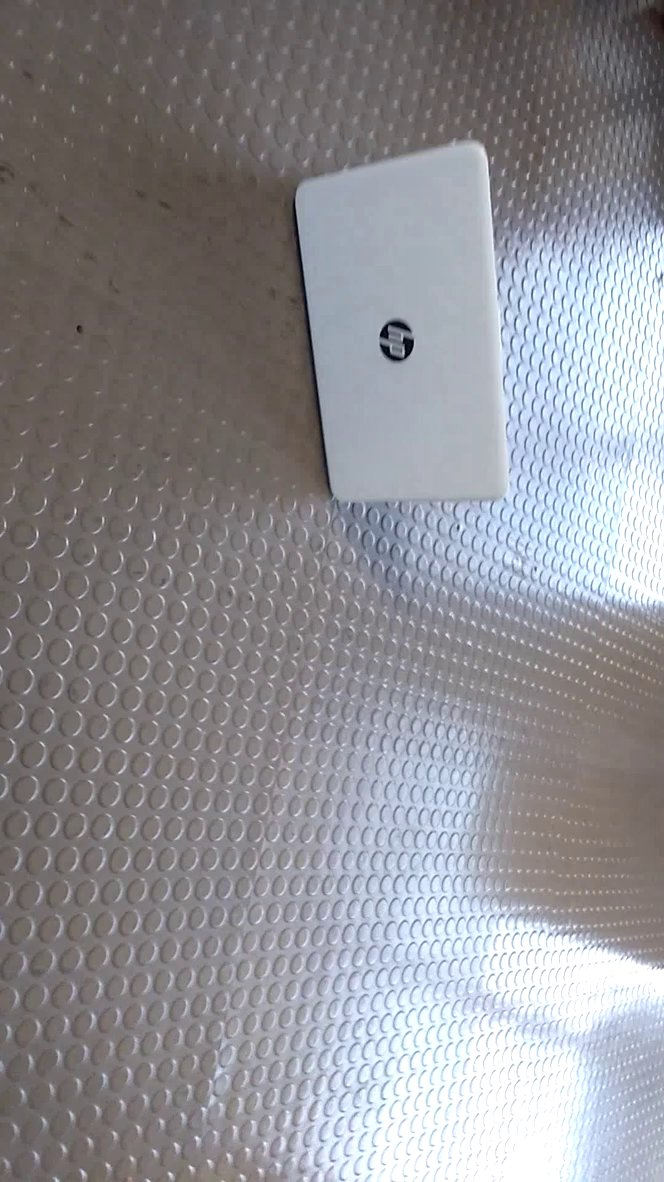laptop: (285, 129, 524, 524)
